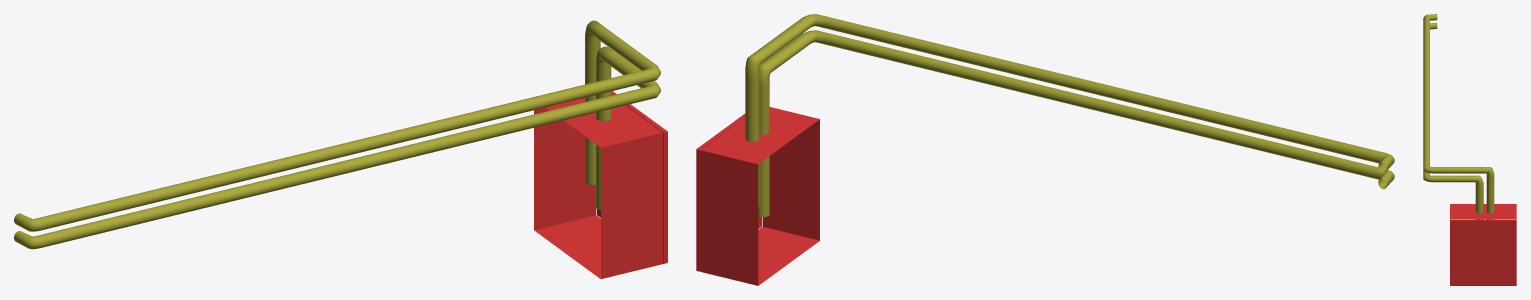
Rendered from GearAndPipes (Low Bend).FBX.
3 renders of one model, left to right at view 1: azimuth 30°, elevation 25°; view 2: azimuth 150°, elevation 25°; view 3: azimuth 270°, elevation 25°, orthographic. The views are drawn at different scales.
Visible parts, largest first — view 1: GearAndPipes (Low Bend)_009; view 2: GearAndPipes (Low Bend)_009; view 3: GearAndPipes (Low Bend)_009.
Part boxes in pixels (x1,y1,x2,y2): GearAndPipes (Low Bend)_009: (14,20,667,278); GearAndPipes (Low Bend)_009: (696,14,1394,285); GearAndPipes (Low Bend)_009: (1423,14,1516,285).
Bounding box in the file's own units: 464 × 147 × 113.
